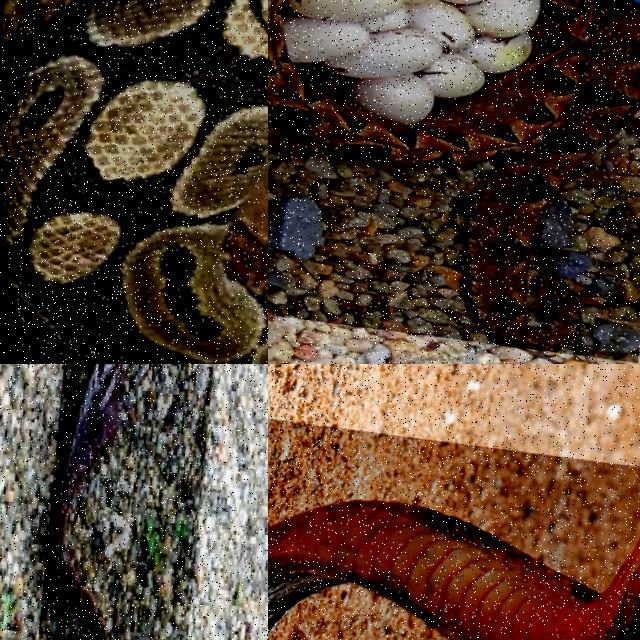Calloselasma rhodostoma: (268, 0, 639, 350), (47, 364, 124, 639)
Ophiophagus hannah: (268, 501, 639, 639)
Python bivittatus: (0, 0, 267, 363)
